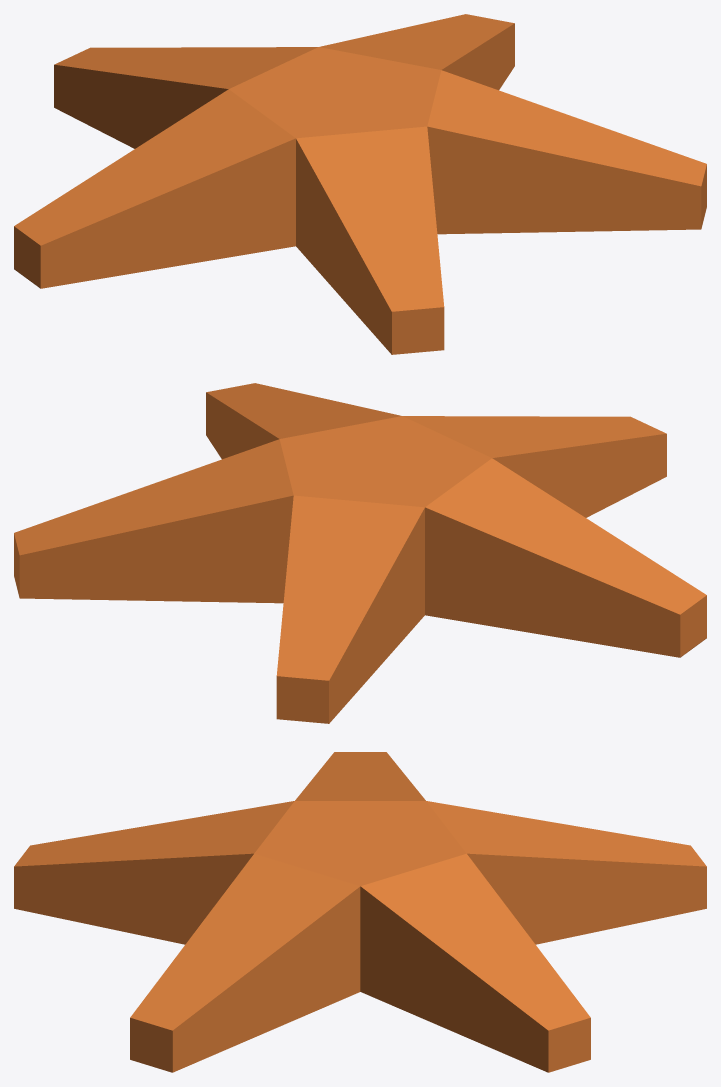
The model's file is Starfish ORANGE 1.fbx.
The picture shows the model from 3 angles, top to bottom: view 1: azimuth 30°, elevation 25°; view 2: azimuth 150°, elevation 25°; view 3: azimuth 270°, elevation 25°; orthographic projection. The views are drawn at different scales.
Parts seen in each view (by area): view 1: Cylinder001; view 2: Cylinder001; view 3: Cylinder001.
Boxes of the visible parts, left/top/right/bottom form: Cylinder001: left=14, top=14, right=706, bottom=354; Cylinder001: left=14, top=383, right=706, bottom=723; Cylinder001: left=14, top=752, right=706, bottom=1072.
Size of the model in its own units: 46.49 by 8.22 by 48.89.
1 material, 1 textured.
